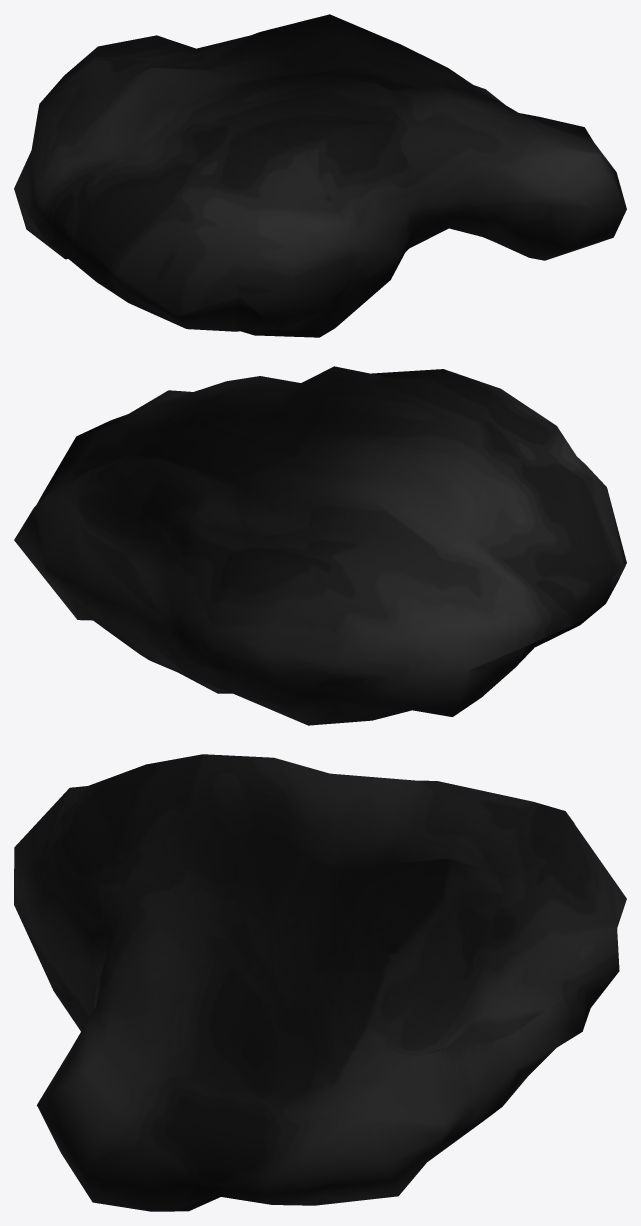
The model's file is 07-Rock.fbx.
3 views of the same model, one above another, from view 1: azimuth 30°, elevation 25°; view 2: azimuth 150°, elevation 25°; view 3: azimuth 270°, elevation 25° (orthographic). The views are drawn at different scales.
Visible parts, largest first — view 1: 07-CoralRock.046; view 2: 07-CoralRock.046; view 3: 07-CoralRock.046.
Boxes of the visible parts, box(x1,y1,x2,y2) form: 07-CoralRock.046: box(14, 14, 626, 337); 07-CoralRock.046: box(14, 366, 626, 725); 07-CoralRock.046: box(14, 754, 626, 1211).
Size of the model in its own units: 377 by 172 by 306.
